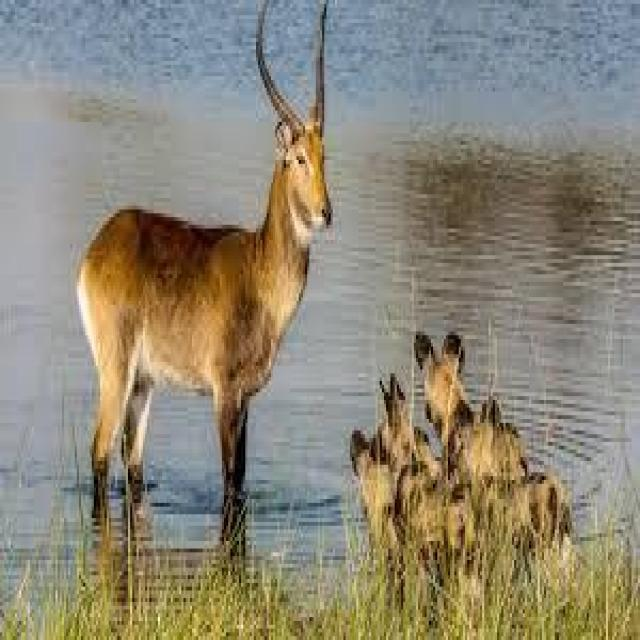Deer: (75, 12, 341, 590)
